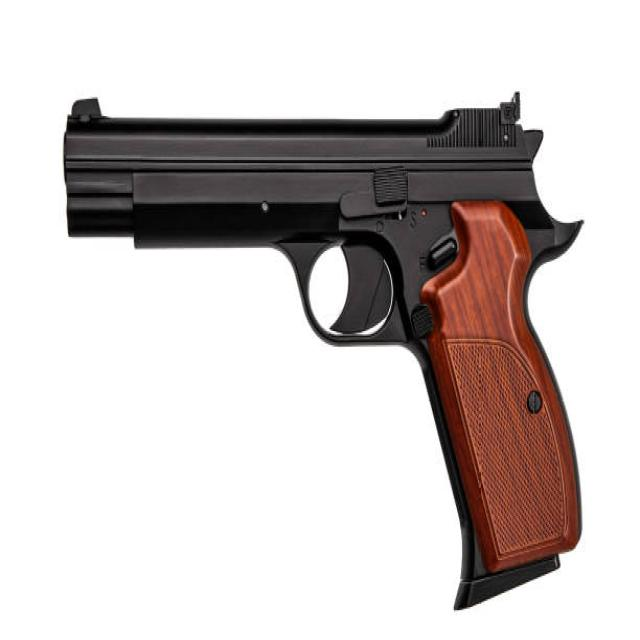pistol: (55, 83, 591, 622)
